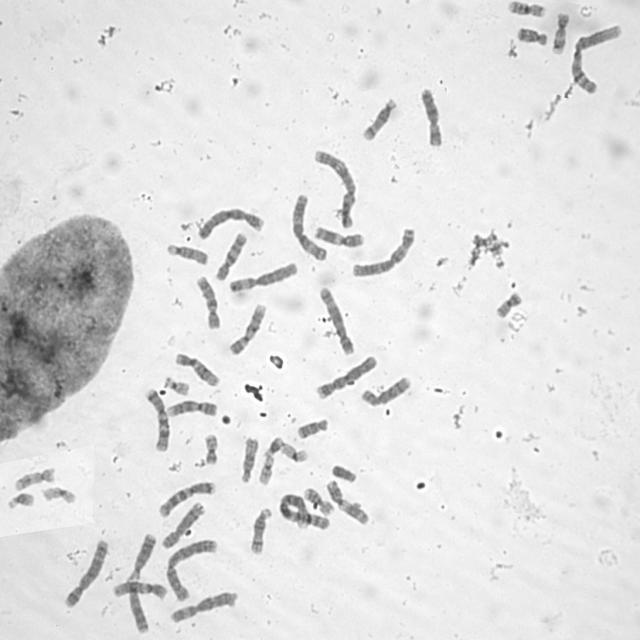A1: (565, 24, 626, 96), (278, 492, 331, 532)
A2: (309, 144, 360, 232), (163, 536, 219, 601)
A3: (348, 227, 416, 278), (289, 193, 329, 262)
B4: (313, 352, 379, 401), (195, 206, 266, 242)
B5: (63, 538, 109, 608), (318, 281, 356, 355)
C10: (213, 230, 250, 284), (194, 272, 222, 336)
C11: (320, 478, 373, 528), (312, 224, 368, 250)
C12: (173, 349, 221, 388), (109, 578, 168, 601)
C6: (227, 262, 301, 296), (166, 590, 238, 624)
C7: (155, 478, 218, 522), (142, 386, 172, 454)
C8: (159, 500, 205, 551), (361, 375, 413, 409)
C9: (225, 304, 268, 358), (164, 397, 219, 421)
D13: (128, 528, 158, 583), (123, 586, 152, 635)
D14: (358, 96, 400, 145), (248, 507, 271, 556)
D15: (164, 244, 211, 267), (238, 434, 258, 486)
E16: (300, 486, 334, 517), (506, 0, 550, 22)
E17: (10, 465, 60, 493), (550, 9, 571, 56)
E18: (295, 416, 330, 440), (514, 27, 550, 48)
F19: (43, 484, 77, 506), (276, 443, 310, 463)
F20: (492, 290, 524, 319), (201, 432, 219, 466)
G21: (6, 490, 36, 512), (261, 436, 285, 460)
G22: (257, 449, 277, 485), (163, 376, 190, 396)
X: (418, 87, 442, 149)
Y: (329, 462, 358, 482)
